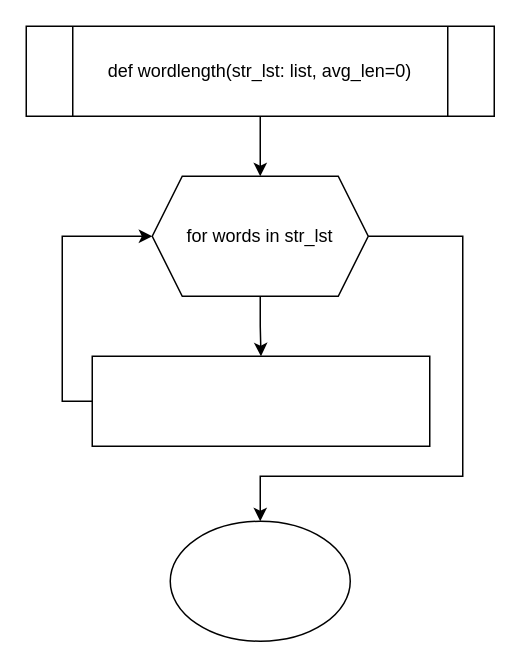
This 521x668 diagram has some shape labels left out. The box of each missing label's shape, as (x1, y1, x2, y2) in pixels:
avg_len += len(words) / len(str_lst): (91, 355, 430, 446)
return avg_len: (169, 520, 350, 641)
